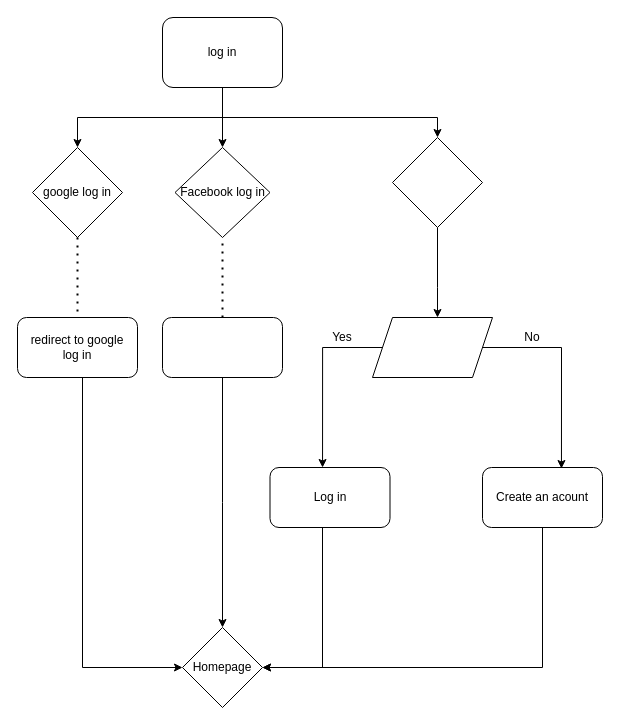
Image size: 620x725. Some labels were removed from this diagram. Each missing label, with the box of its shape:
Already have an acoount?: (372, 316, 492, 378)
redirect to facebook log in: (162, 316, 282, 378)
User log in: (392, 136, 482, 228)
